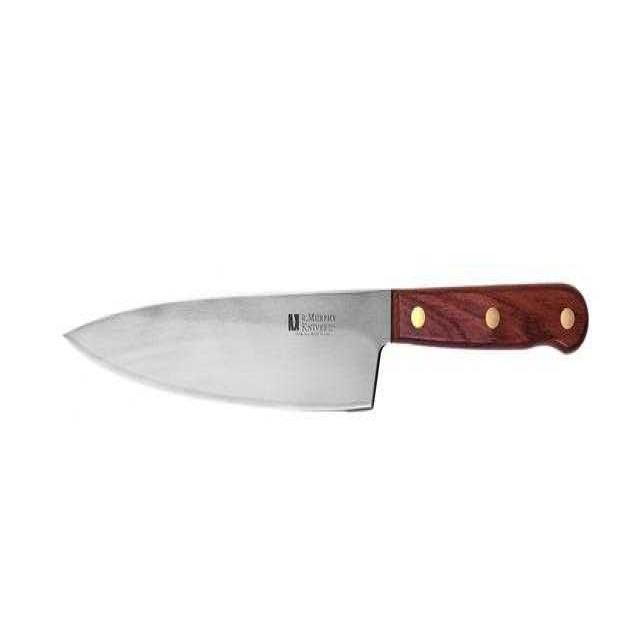weapon: (41, 261, 602, 451)
